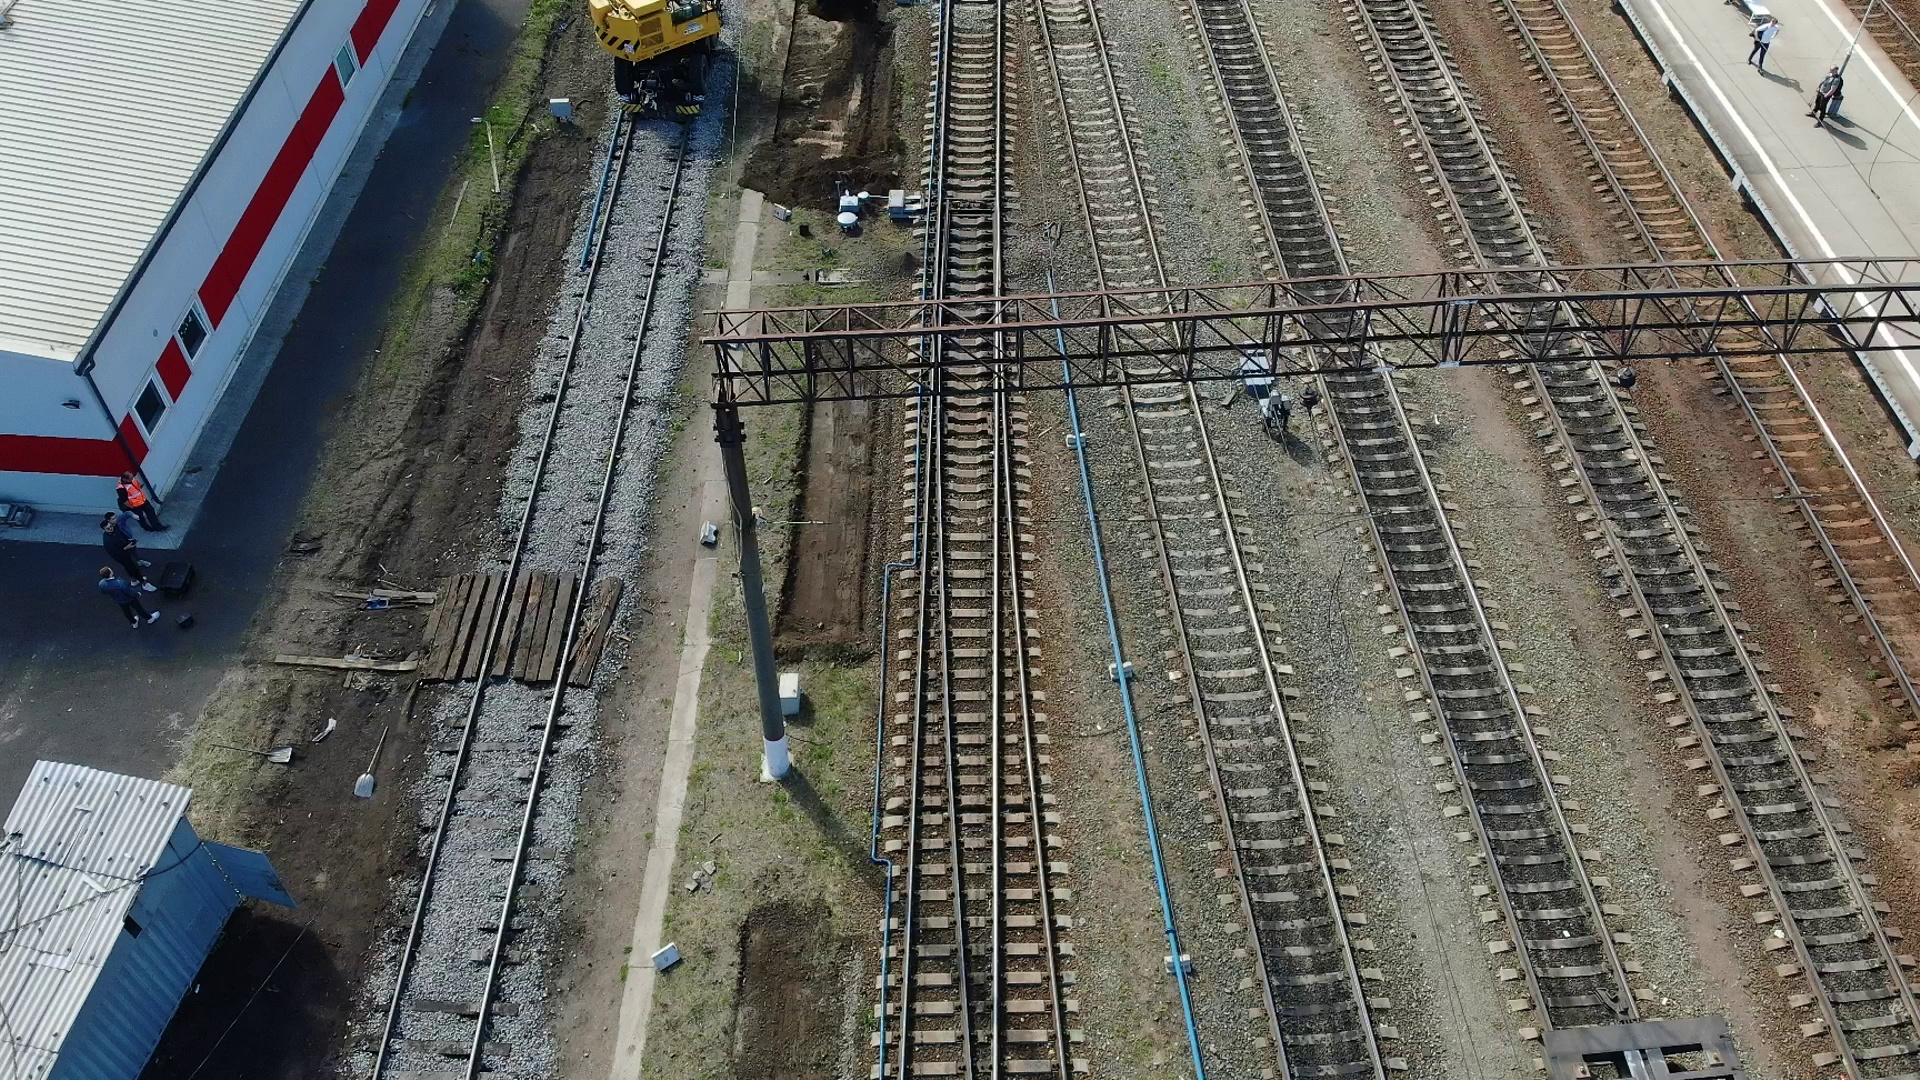kjtv: (589, 1, 727, 88)
